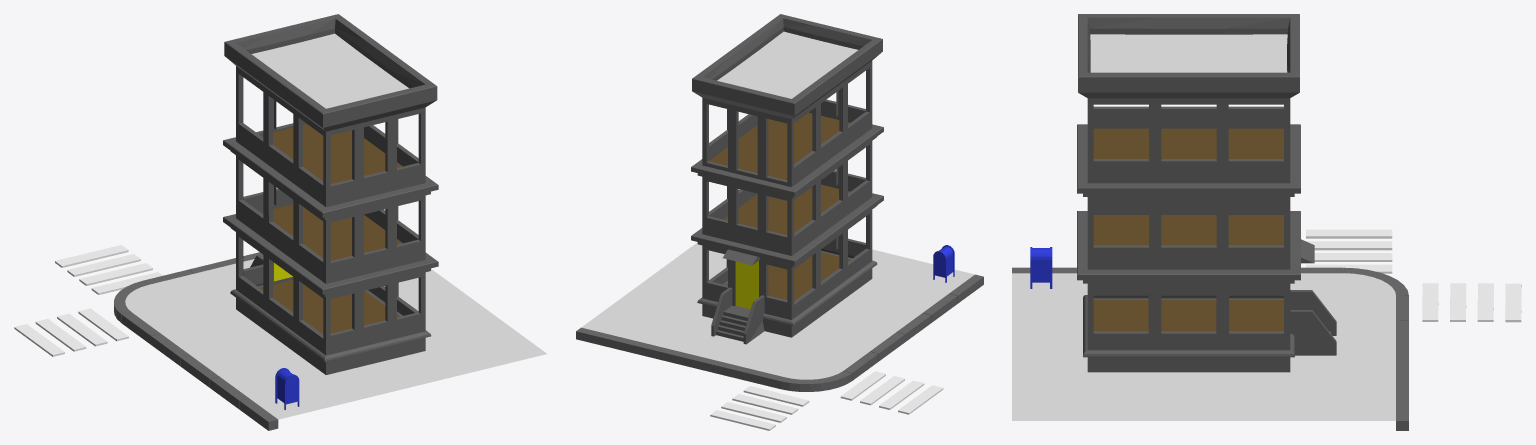
Rendered from Brownstone5-23.glb.
3 views of the same model, side by side, from view 1: azimuth 30°, elevation 25°; view 2: azimuth 150°, elevation 25°; view 3: azimuth 270°, elevation 25° (orthographic). The views are drawn at different scales.
Parts seen in each view (by area): view 1: Building, Plane, Cube.008, Curb Corner, Mailbox, Cube.005, Cube.006, Cube.007, Cube.001, Cube.002, Cube, Cube.003 (+1 smaller); view 2: Building, Plane, Curb Corner, Cube.008, Mailbox, Cube.005, Cube.006, Cube.007, Cube.004, Cube.003, Cube, Cube.002 (+1 smaller); view 3: Building, Plane, Cube.008, Curb Corner, Cube.003, Mailbox, Cube.002, Cube.001, Cube.007, Cube.004, Cube.005, Cube.006 (+1 smaller).
Boxes of the visible parts, bbox=[...] form: Building: bbox=[223, 14, 438, 374]; Plane: bbox=[125, 257, 546, 419]; Cube.008: bbox=[251, 33, 408, 108]; Curb Corner: bbox=[114, 252, 278, 430]; Mailbox: bbox=[275, 368, 299, 409]; Cube.005: bbox=[79, 263, 152, 285]; Cube.006: bbox=[67, 254, 140, 276]; Cube.007: bbox=[55, 245, 128, 267]; Cube.001: bbox=[57, 313, 107, 346]; Cube.002: bbox=[35, 319, 86, 351]; Cube: bbox=[78, 308, 128, 341]; Cube.003: bbox=[14, 324, 64, 356]; Building: bbox=[691, 14, 883, 344]; Plane: bbox=[581, 242, 974, 379]; Curb Corner: bbox=[576, 274, 983, 391]; Cube.008: bbox=[717, 31, 857, 98]; Mailbox: bbox=[933, 245, 954, 282]; Cube.005: bbox=[732, 394, 798, 414]; Cube.006: bbox=[721, 402, 786, 422]; Cube.007: bbox=[710, 410, 775, 430]; Cube.004: bbox=[743, 386, 809, 406]; Cube.003: bbox=[898, 385, 943, 414]; Cube: bbox=[840, 371, 885, 400]; Cube.002: bbox=[879, 380, 924, 409]; Building: bbox=[1077, 14, 1336, 372]; Plane: bbox=[1012, 273, 1395, 420]; Cube.008: bbox=[1090, 34, 1287, 72]; Curb Corner: bbox=[1012, 267, 1408, 430]; Cube.003: bbox=[1306, 229, 1392, 238]; Mailbox: bbox=[1030, 247, 1052, 288]; Cube.002: bbox=[1306, 241, 1392, 250]; Cube.001: bbox=[1314, 253, 1392, 261]; Cube.007: bbox=[1505, 283, 1521, 322]; Cube.004: bbox=[1422, 283, 1438, 321]; Cube.005: bbox=[1450, 283, 1466, 321]; Cube.006: bbox=[1477, 283, 1493, 321].
Bounding box in the file's own units: 10.97 × 7.95 × 11.82.
